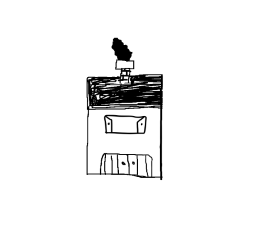door: (93, 147, 157, 181)
open_window: (99, 113, 148, 141)
shaded_roof: (81, 70, 172, 113)
small_house: (1, 1, 260, 232)
smoking_chimney: (105, 36, 147, 88)
wall: (83, 101, 167, 182)
